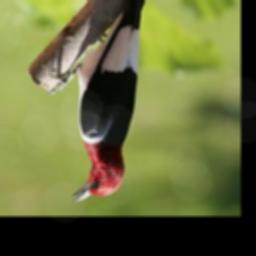Woodpecker: (65, 0, 154, 206)
